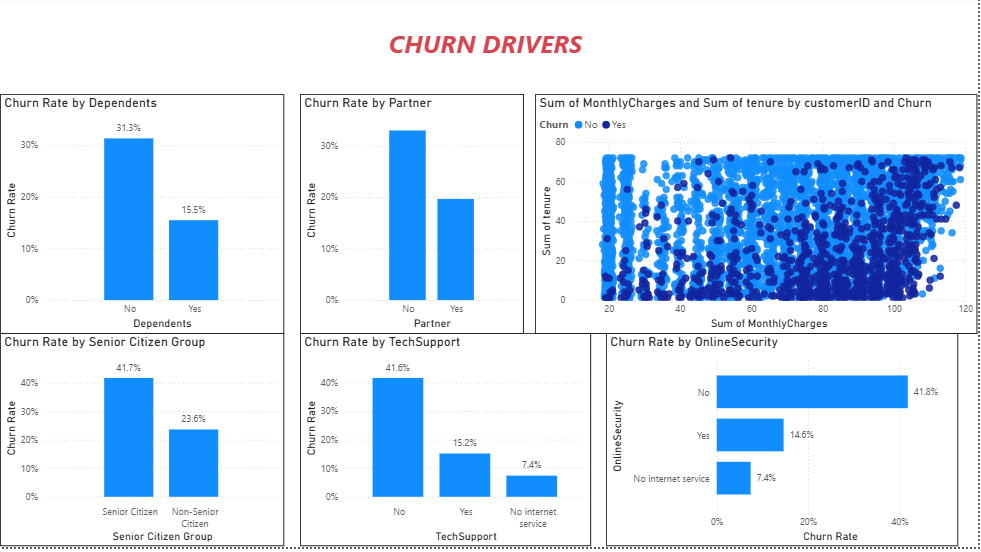

Layout of this report page (visuals, bound fields, positions):
{"tool":"powerbi","page":{"name":"Page 2","canvas":[1280,720],"ordinal":1},"visuals":[{"type":"clusteredColumnChart","fields":{"Category":["WA_Fn-UseC_-Telco-Customer-Churn.Senior Citizen Group"],"Y":["WA_Fn-UseC_-Telco-Customer-Churn.Churn Rate"]},"box":[0,440.4,371.6,279.4],"z":0},{"type":"clusteredColumnChart","fields":{"Category":["WA_Fn-UseC_-Telco-Customer-Churn.Dependents"],"Y":["WA_Fn-UseC_-Telco-Customer-Churn.Churn Rate"]},"box":[0,126.6,371.6,313.8],"z":1000},{"type":"barChart","fields":{"Category":["WA_Fn-UseC_-Telco-Customer-Churn.OnlineSecurity"],"Y":["WA_Fn-UseC_-Telco-Customer-Churn.Churn Rate"]},"box":[792.8,440.4,461.1,279.4],"z":2000},{"type":"clusteredColumnChart","fields":{"Category":["WA_Fn-UseC_-Telco-Customer-Churn.TechSupport"],"Y":["WA_Fn-UseC_-Telco-Customer-Churn.Churn Rate"]},"box":[392.3,440.4,381.2,279.4],"z":3000},{"type":"scatterChart","fields":{"X":["Sum(WA_Fn-UseC_-Telco-Customer-Churn.MonthlyCharges)"],"Y":["Sum(WA_Fn-UseC_-Telco-Customer-Churn.tenure)"],"Series":["WA_Fn-UseC_-Telco-Customer-Churn.Churn"],"Category":["WA_Fn-UseC_-Telco-Customer-Churn.customerID"]},"box":[700.6,126.6,579.4,313.8],"z":4000},{"type":"textbox","box":[100.5,33,1069.4,68.8],"z":5000},{"type":"clusteredColumnChart","fields":{"Category":["WA_Fn-UseC_-Telco-Customer-Churn.Partner"],"Y":["WA_Fn-UseC_-Telco-Customer-Churn.Churn Rate"]},"box":[392.3,126.6,293.2,313.8],"z":5001}]}

Visuals, with their boxes in screenshot pixels (x1, y1, x2, y2), scaled from the page's 1280x720 canvas onto the 981x552 screenshot:
clusteredColumnChart - WA_Fn-UseC_-Telco-Customer-Churn.Senior Citizen Group x WA_Fn-UseC_-Telco-Customer-Churn.Churn Rate: 0, 338, 285, 551
clusteredColumnChart - WA_Fn-UseC_-Telco-Customer-Churn.Dependents x WA_Fn-UseC_-Telco-Customer-Churn.Churn Rate: 0, 97, 285, 338
barChart - WA_Fn-UseC_-Telco-Customer-Churn.OnlineSecurity x WA_Fn-UseC_-Telco-Customer-Churn.Churn Rate: 608, 338, 961, 551
clusteredColumnChart - WA_Fn-UseC_-Telco-Customer-Churn.TechSupport x WA_Fn-UseC_-Telco-Customer-Churn.Churn Rate: 301, 338, 593, 551
scatterChart - Sum(WA_Fn-UseC_-Telco-Customer-Churn.MonthlyCharges) x Sum(WA_Fn-UseC_-Telco-Customer-Churn.tenure): 537, 97, 980, 338
textbox: 77, 25, 897, 78
clusteredColumnChart - WA_Fn-UseC_-Telco-Customer-Churn.Partner x WA_Fn-UseC_-Telco-Customer-Churn.Churn Rate: 301, 97, 525, 338
